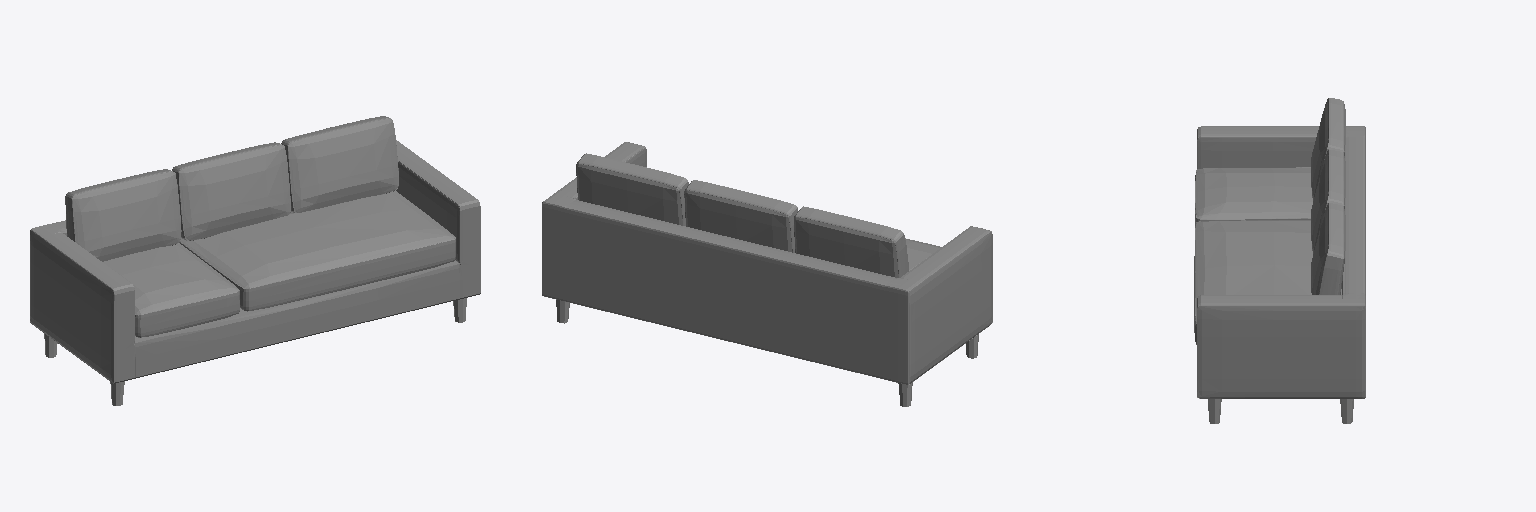
File: design16.obj
3 views of the same model, side by side, from view 1: azimuth 30°, elevation 25°; view 2: azimuth 150°, elevation 25°; view 3: azimuth 270°, elevation 25° (orthographic).
Parts seen in each view (by area): view 1: Box007, Box086, Box084, Box085, Box010, Box009, Box008; view 2: Box007, Box010, Box084, Box085, Box008, Box009; view 3: Box007, Box086, Box009, Box085, Box084, Box010, Box008.
Boxes of the visible parts, x1=… form: Box007: x1=30, y1=140, x2=480, y2=383; Box086: x1=180, y1=191, x2=455, y2=311; Box084: x1=172, y1=142, x2=290, y2=240; Box085: x1=281, y1=116, x2=398, y2=212; Box010: x1=65, y1=169, x2=181, y2=261; Box009: x1=103, y1=243, x2=239, y2=337; Box008: x1=44, y1=298, x2=466, y2=405; Box007: x1=542, y1=142, x2=992, y2=384; Box010: x1=794, y1=206, x2=908, y2=277; Box084: x1=684, y1=180, x2=797, y2=252; Box085: x1=576, y1=153, x2=688, y2=225; Box008: x1=556, y1=300, x2=978, y2=406; Box009: x1=905, y1=238, x2=941, y2=270; Box007: x1=1197, y1=126, x2=1365, y2=398; Box086: x1=1194, y1=220, x2=1312, y2=344; Box009: x1=1195, y1=167, x2=1312, y2=225; Box085: x1=1311, y1=203, x2=1345, y2=294; Box084: x1=1311, y1=150, x2=1345, y2=253; Box010: x1=1311, y1=98, x2=1345, y2=200; Box008: x1=1208, y1=399, x2=1353, y2=423.
Size of the model in its own units: 1807 by 774 by 728.